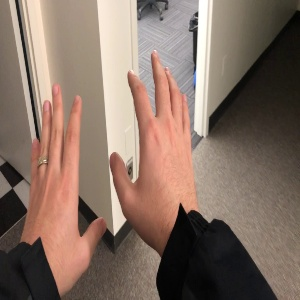hand: (20, 83, 106, 256), (110, 51, 198, 212)
